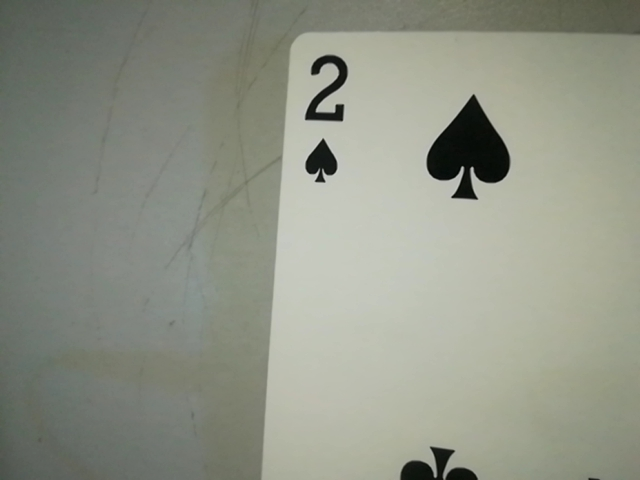ht 2: (290, 48, 360, 190)
